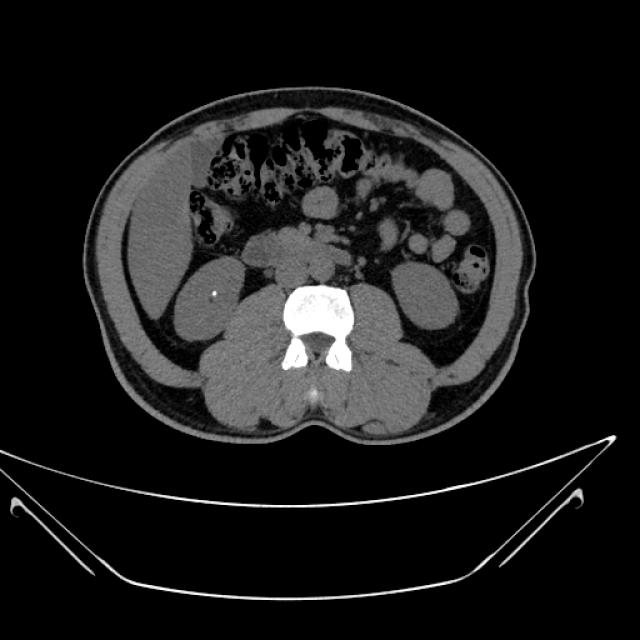kidney: (182, 264, 233, 338), (398, 262, 454, 326)
stone: (212, 291, 217, 296)
